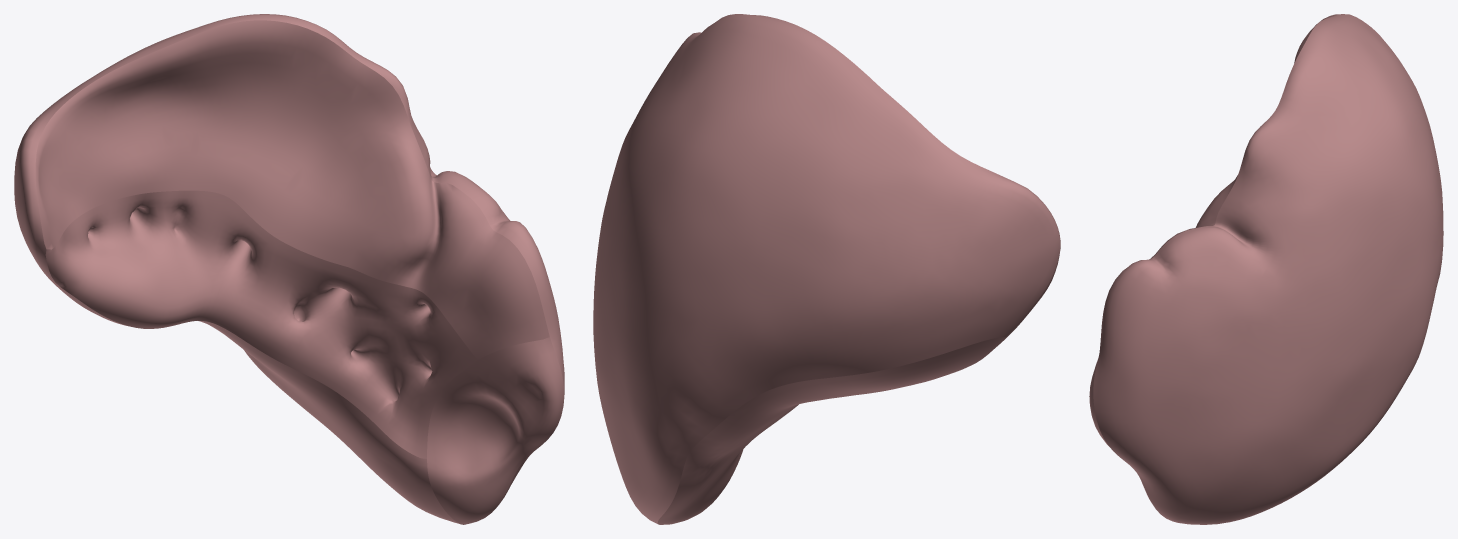
File: spleen.glb
The picture shows the model from 3 angles, left to right: view 1: azimuth 30°, elevation 25°; view 2: azimuth 150°, elevation 25°; view 3: azimuth 270°, elevation 25°; orthographic projection. The views are drawn at different scales.
Visible parts, largest first — view 1: VH_M_colic_surface_of_spleen; view 2: VH_M_colic_surface_of_spleen; view 3: VH_M_colic_surface_of_spleen.
Boxes of the visible parts, x1,y1,x2,y2 form: VH_M_colic_surface_of_spleen: (14,14,564,524); VH_M_colic_surface_of_spleen: (593,14,1060,524); VH_M_colic_surface_of_spleen: (1089,14,1443,524).
Size of the model in its own units: 0.1104 by 0.1186 by 0.0886.
